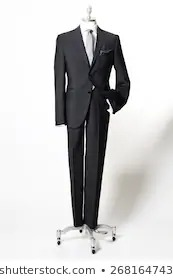F_dress pants: (65, 94, 110, 232)
